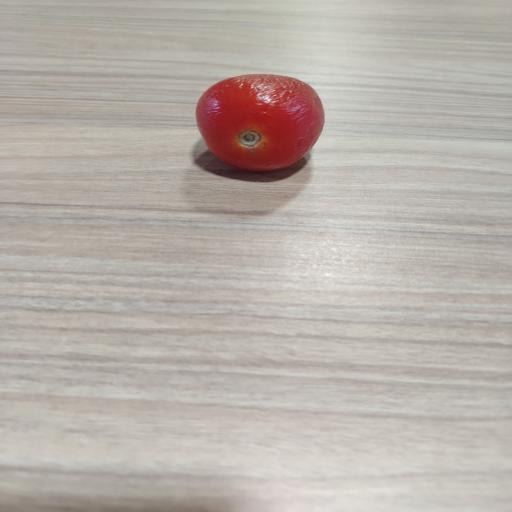spoiled: (196, 74, 324, 171)
